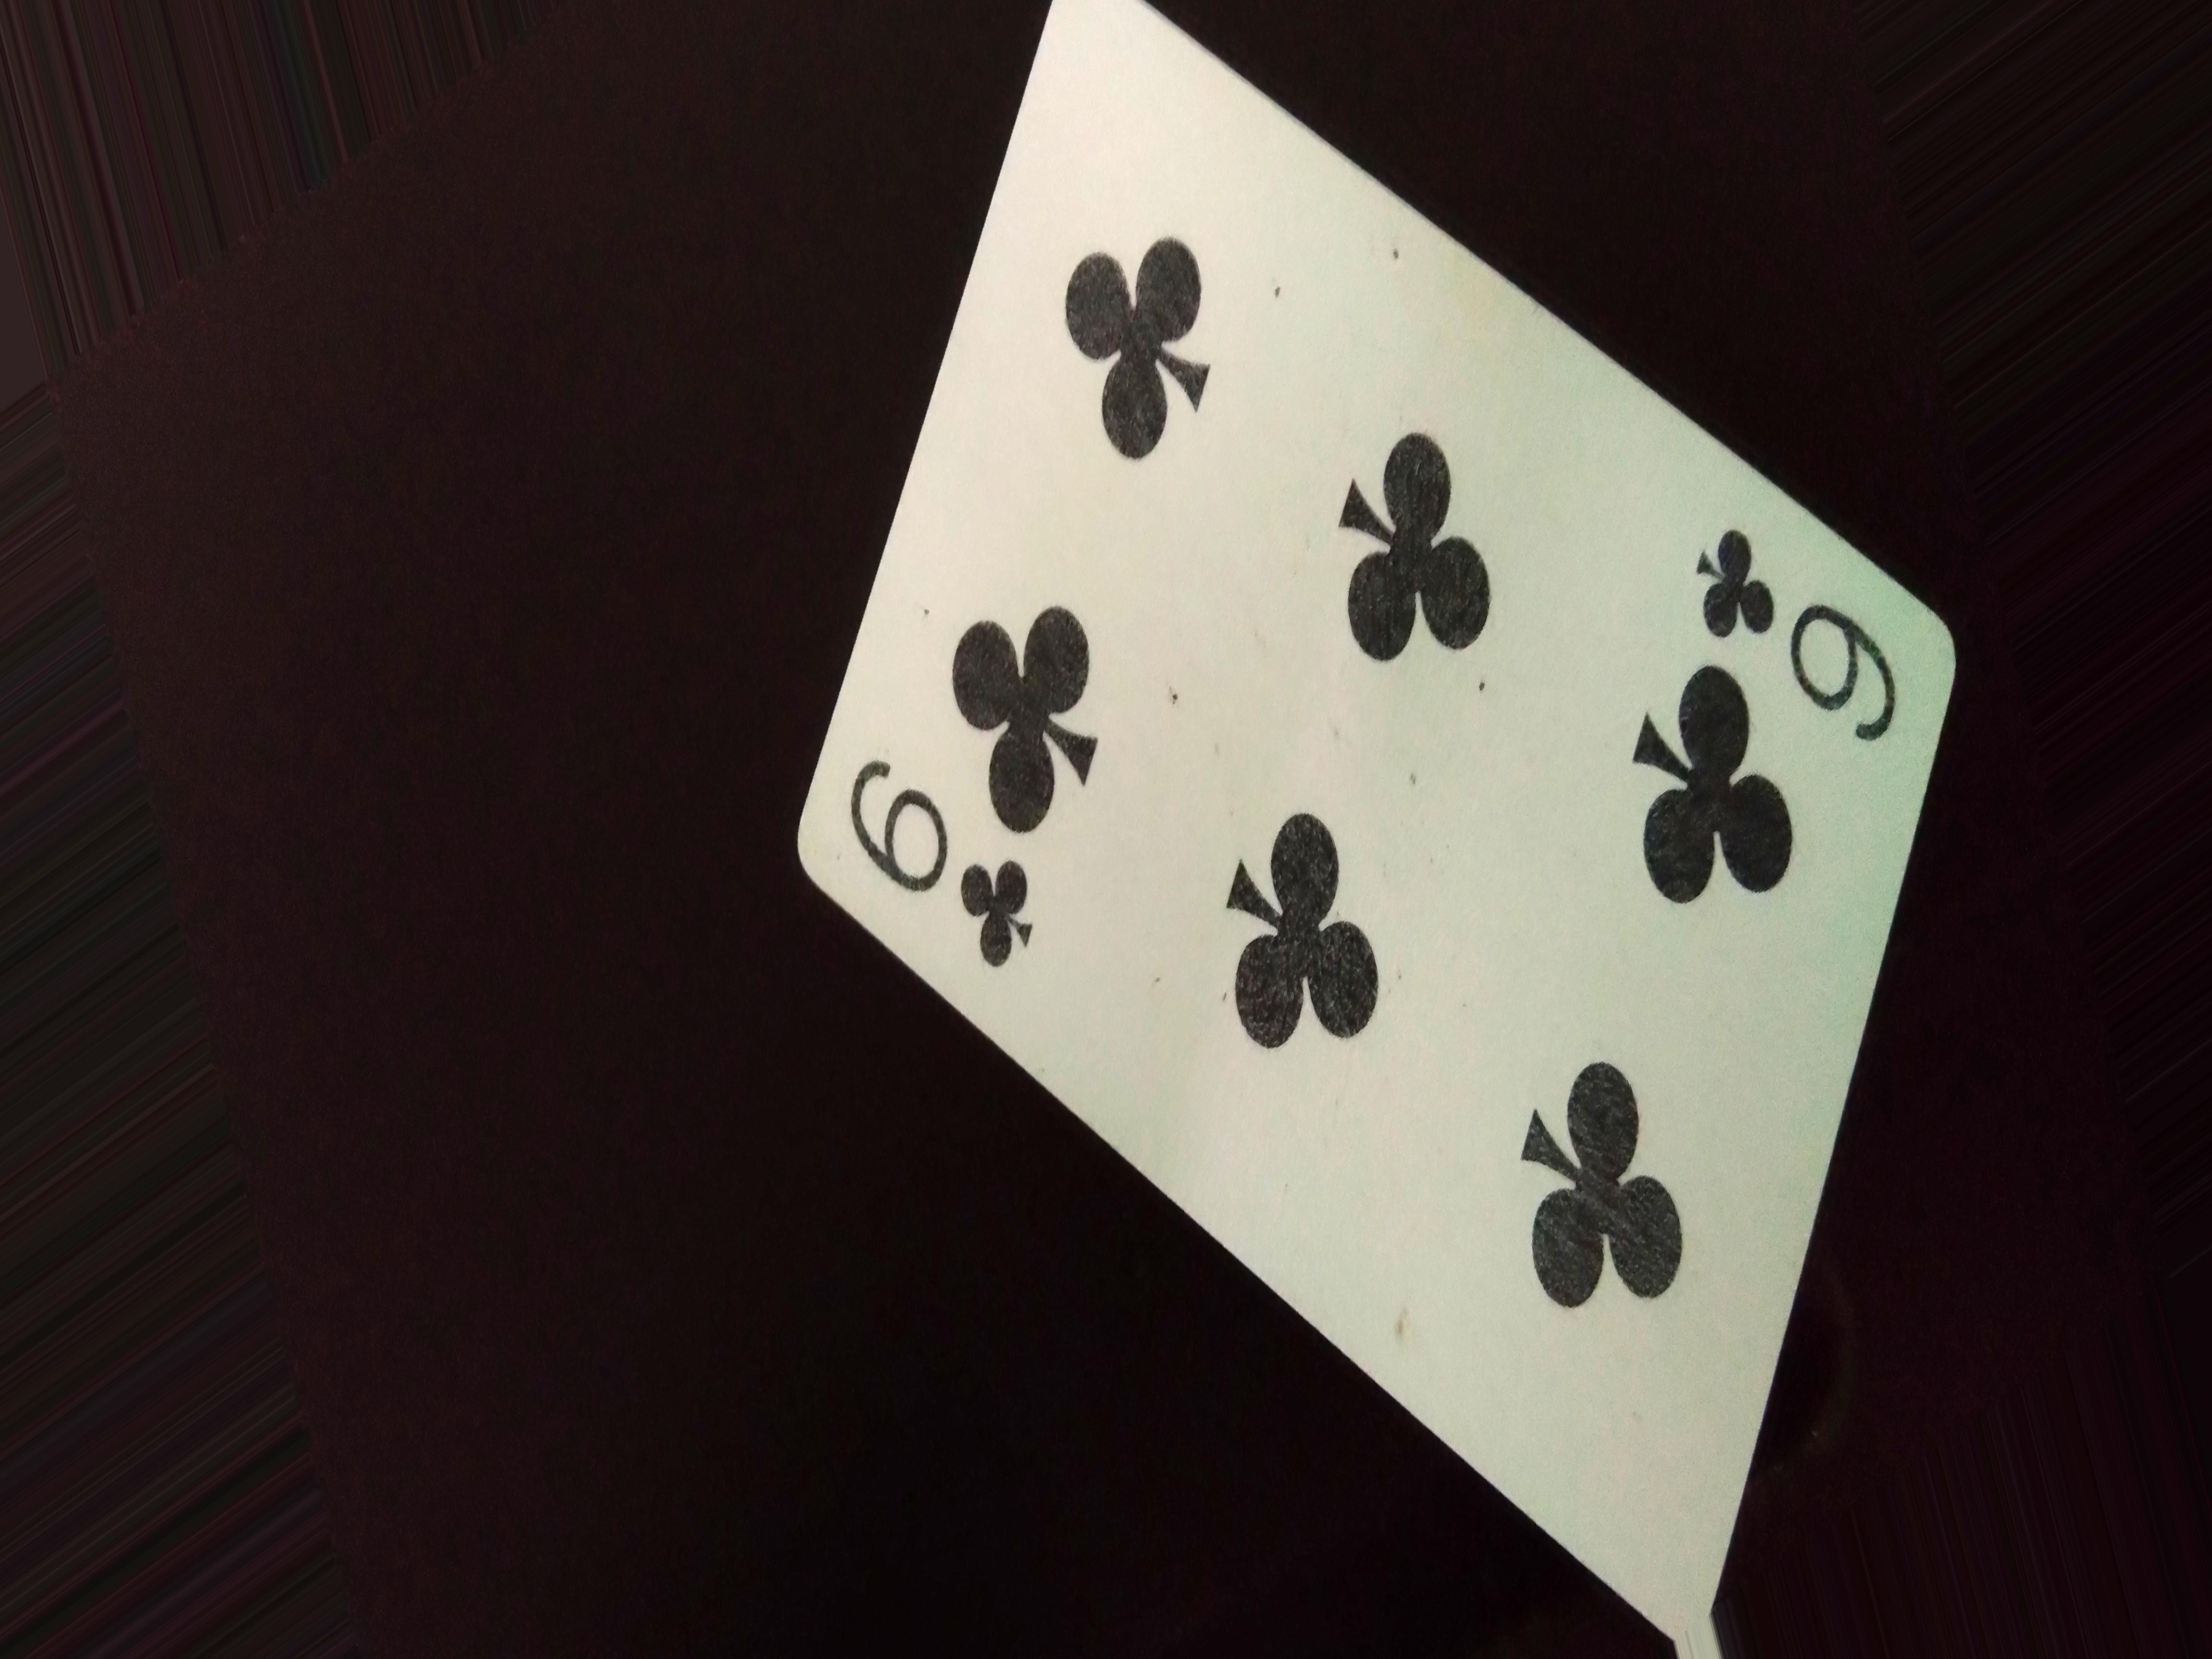6C: (845, 749, 1080, 979)
